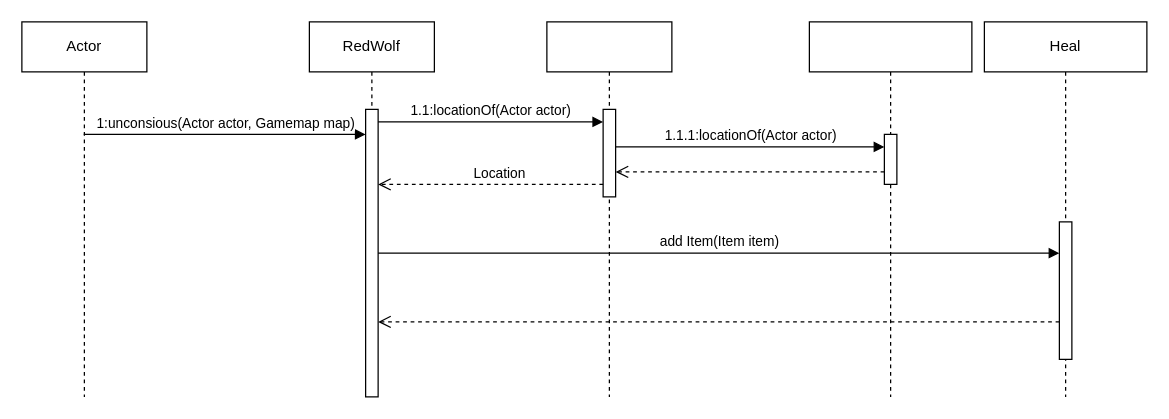
Some shapes in this 1169 by 419 pixel diagram are drawn without their labels. Each missing label, with the centre of its shape:
ActorLocationsIterator: (890,209)
GameMap: (609,209)
